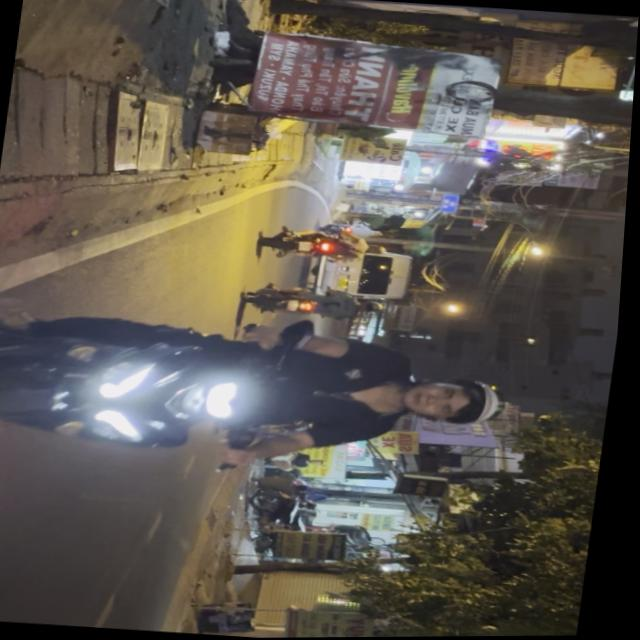helmet: (398, 374, 509, 432)
licenseplate: (0, 292, 526, 492)
